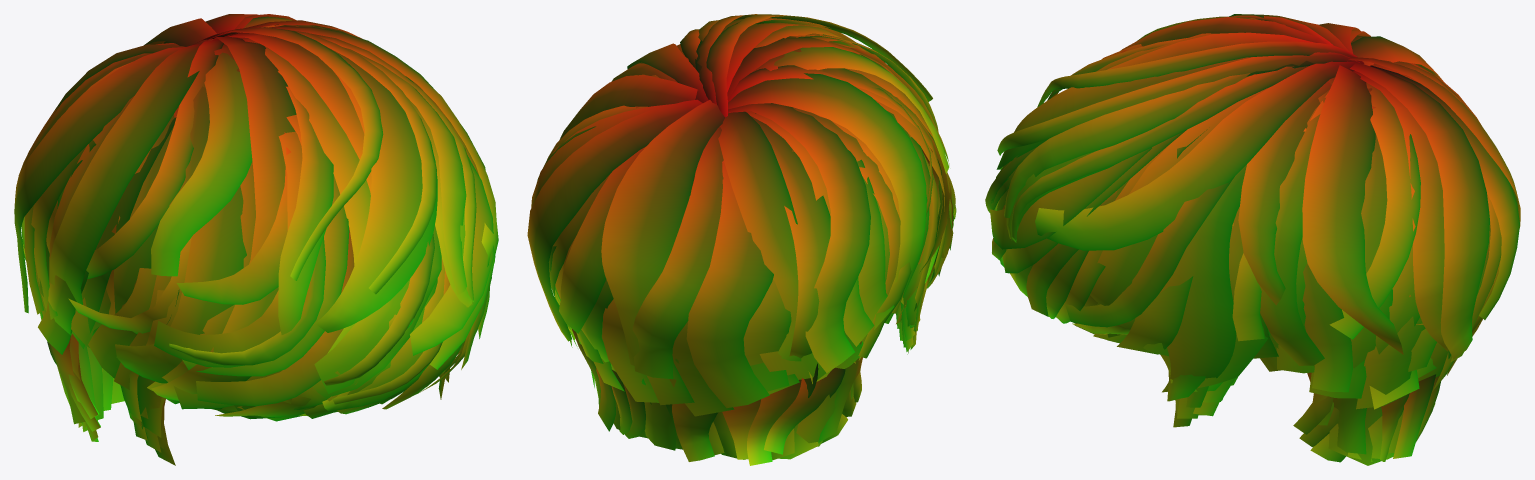
The model's file is Male Hair10.dae.
3 views of the same model, side by side, from view 1: azimuth 30°, elevation 25°; view 2: azimuth 150°, elevation 25°; view 3: azimuth 270°, elevation 25° (orthographic). The views are drawn at different scales.
Parts seen in each view (by area): view 1: Hair10; view 2: Hair10; view 3: Hair10.
Part boxes in pixels (<box>): Hair10: <box>14,14,498,465</box>; Hair10: <box>527,14,956,465</box>; Hair10: <box>985,14,1520,465</box>.
Bounding box in the file's own units: 18.07 × 17.8 × 22.37.
